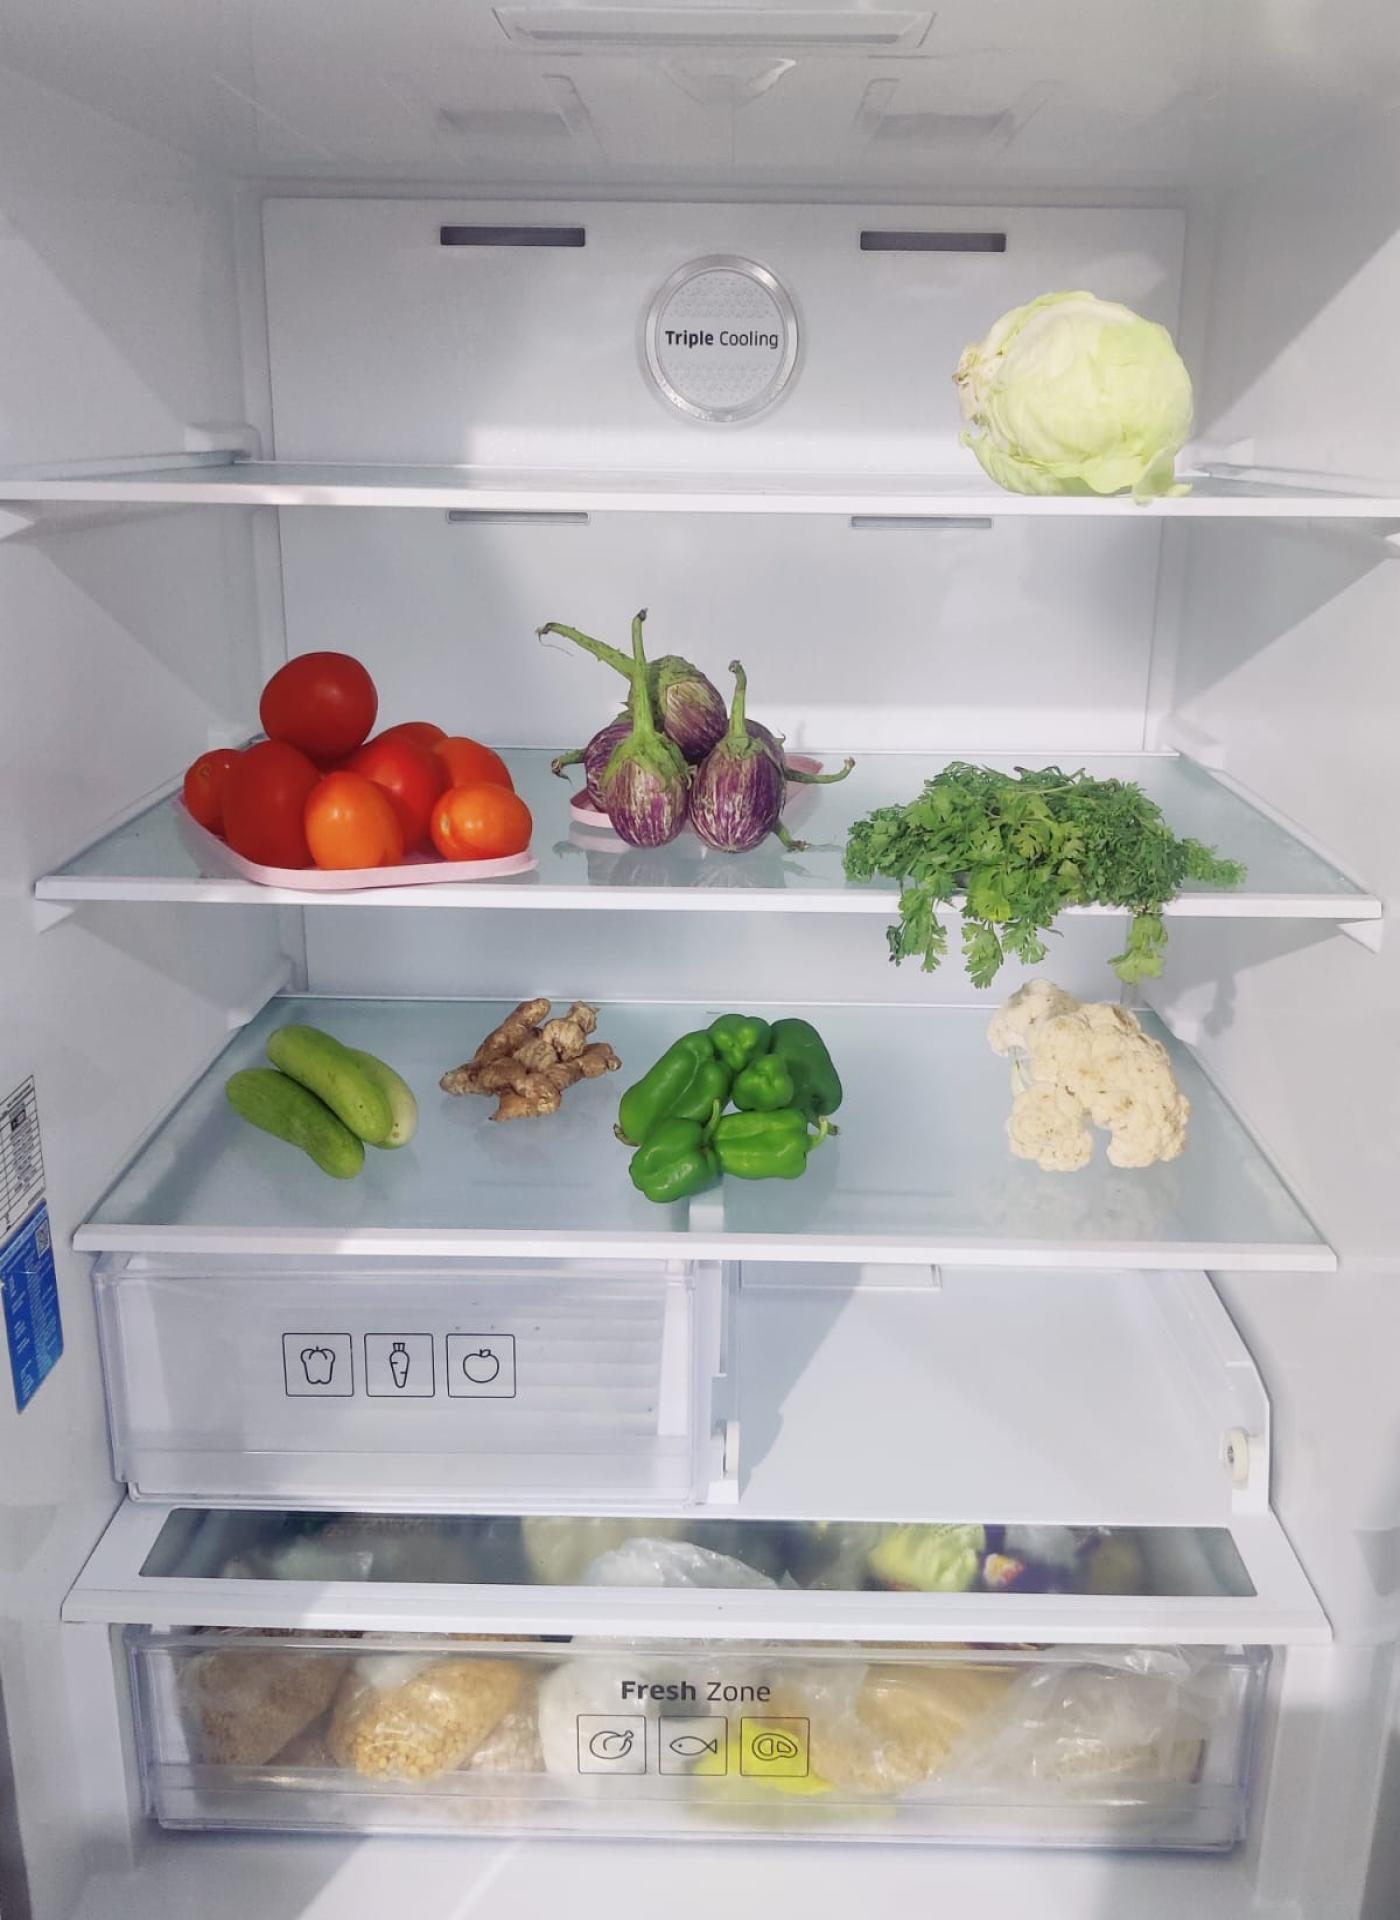brinjal: (587, 651, 787, 847)
cabbage: (959, 294, 1200, 504)
capsicum: (622, 1006, 844, 1196)
cauliflower: (999, 981, 1196, 1170)
coriander: (845, 763, 1233, 924)
cucumber: (224, 1018, 419, 1175)
ginger: (440, 997, 619, 1122)
tomato: (185, 657, 531, 875)
